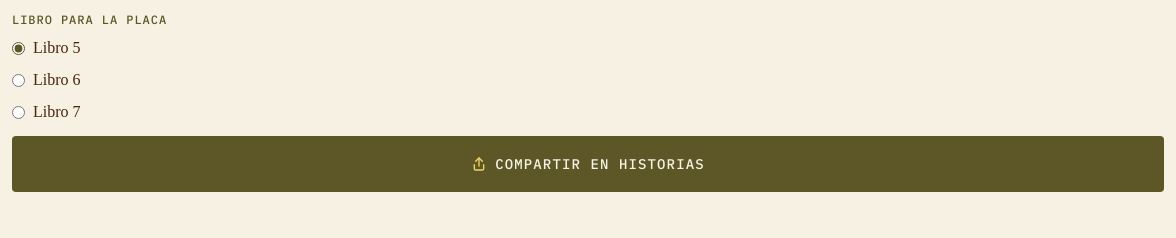
it: GiftStoryShare › si compartir falla con otro error muestra el aviso
Click the button "Compartir en historias" at coordinates (588, 164), box [12,136,1164,192]
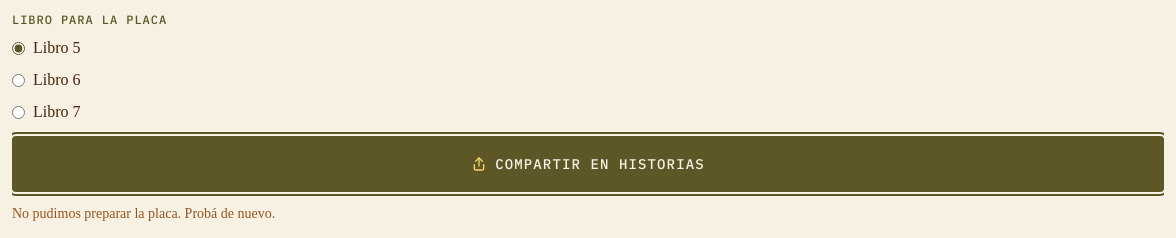
Expected: the message reads "No pudimos preparar la placa. Probá de nuevo.", [12,206,275,221]
